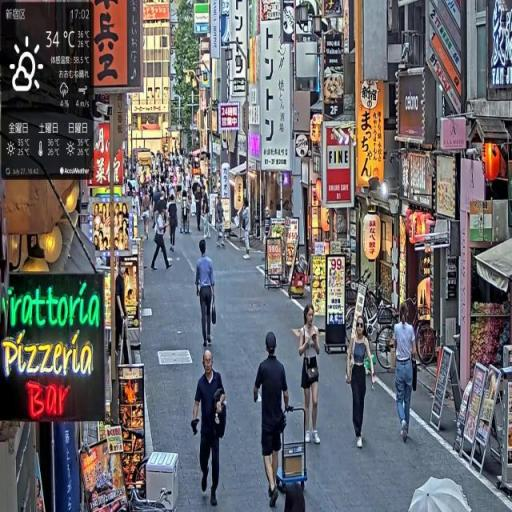person: (254, 329, 292, 511), (192, 349, 229, 510), (347, 315, 378, 448), (394, 303, 419, 445), (298, 305, 322, 446), (196, 241, 218, 352), (150, 203, 172, 275), (141, 186, 153, 242), (216, 195, 228, 248)
